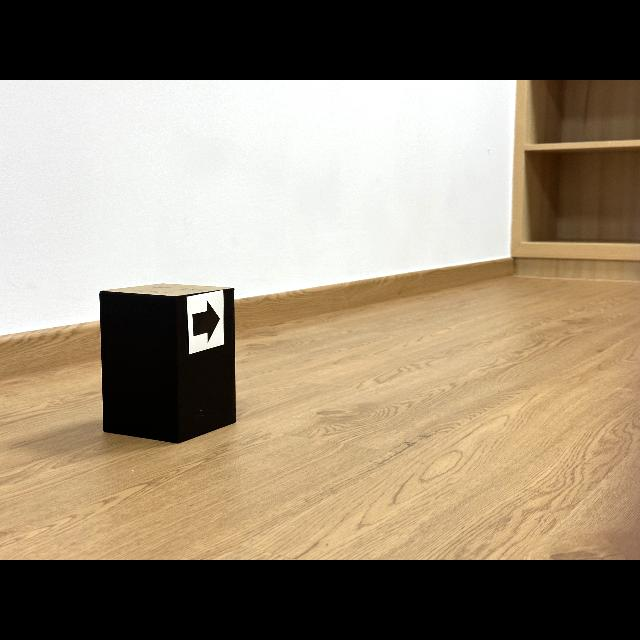RIGHT: (192, 301, 220, 341)
